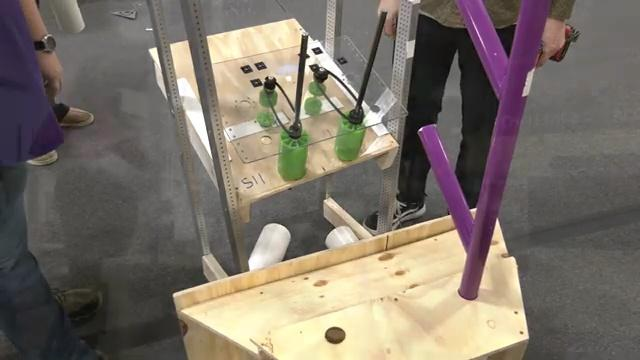CORAL: (247, 221, 291, 271), (325, 226, 359, 246)
